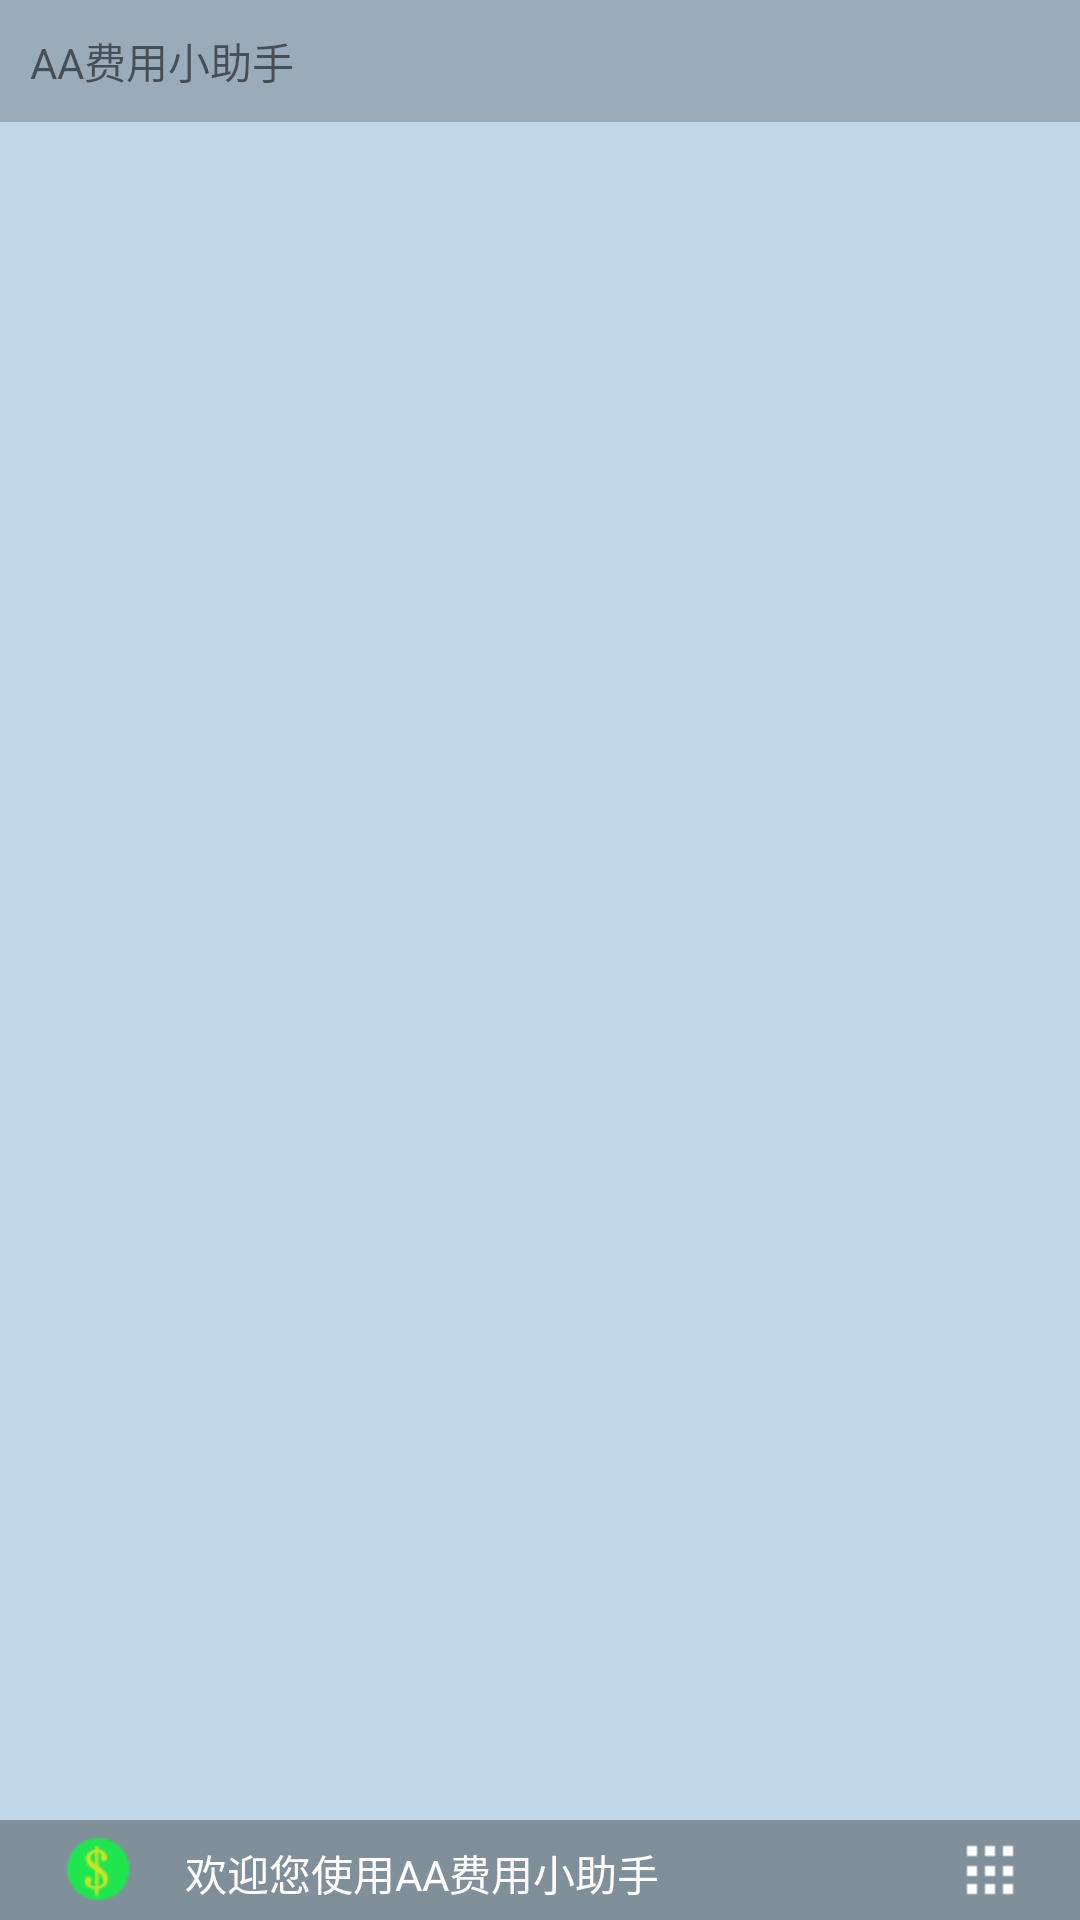

Locate icon controls on the screen. Image size 1080px x 1920px, boxes as (x1, y1, x2, y2).
dollar: (67, 1838, 129, 1900)
menu: (966, 1845, 1014, 1895)
